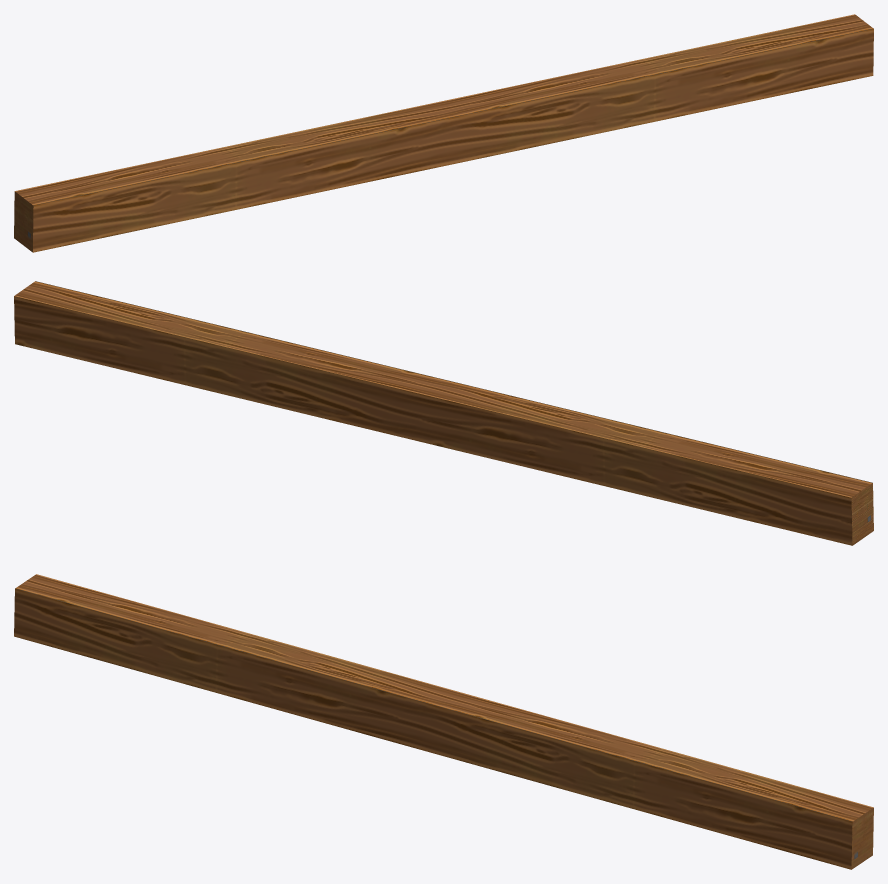
The picture shows the model from 3 angles, top to bottom: view 1: azimuth 30°, elevation 25°; view 2: azimuth 150°, elevation 25°; view 3: azimuth 330°, elevation 25°; orthographic projection. The views are drawn at different scales.
Parts seen in each view (by area): view 1: Cube.498; view 2: Cube.498; view 3: Cube.498.
Part boxes in pixels (<box>): Cube.498: <box>14,14,873,252</box>; Cube.498: <box>14,281,873,545</box>; Cube.498: <box>14,574,873,869</box>.
Bounding box in the file's own units: 389 × 27.98 × 26.96.
1 material, 1 textured.
